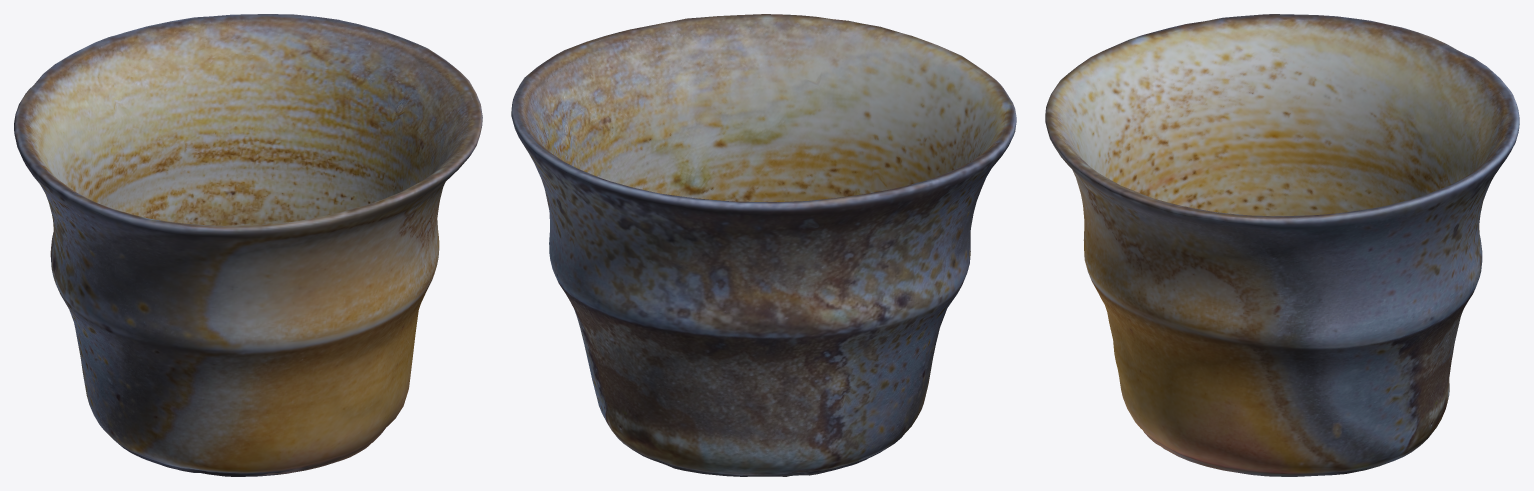
File: a_chinese_tongguan_kiln_teapot_2.glb
3 views of the same model, side by side, from view 1: azimuth 30°, elevation 25°; view 2: azimuth 150°, elevation 25°; view 3: azimuth 270°, elevation 25° (orthographic). The views are drawn at different scales.
Parts seen in each view (by area): view 1: obj.001_0; view 2: obj.001_0; view 3: obj.001_0.
Part boxes in pixels (x1,y1,x2,y2): obj.001_0: (14,14,482,476); obj.001_0: (511,14,1016,476); obj.001_0: (1045,14,1519,476).
Size of the model in its own units: 2.47 by 1.71 by 2.38.
1 material, 1 textured.
